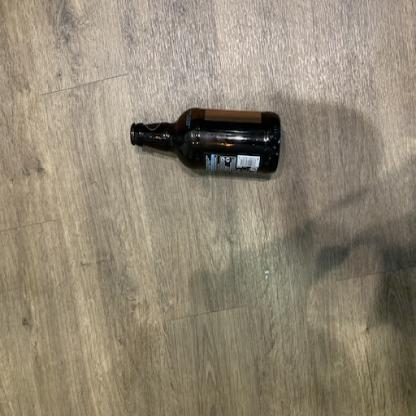trash: (131, 107, 283, 179)
